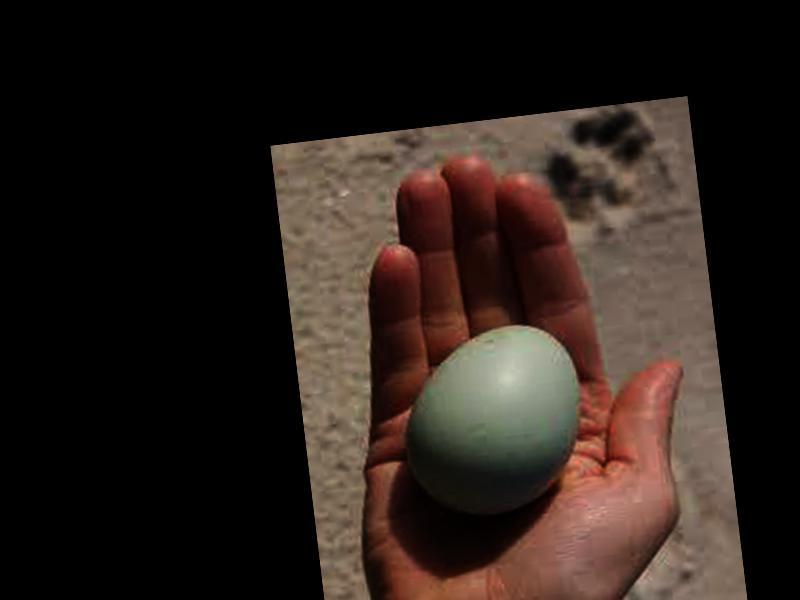Eggs: (393, 322, 588, 520)
